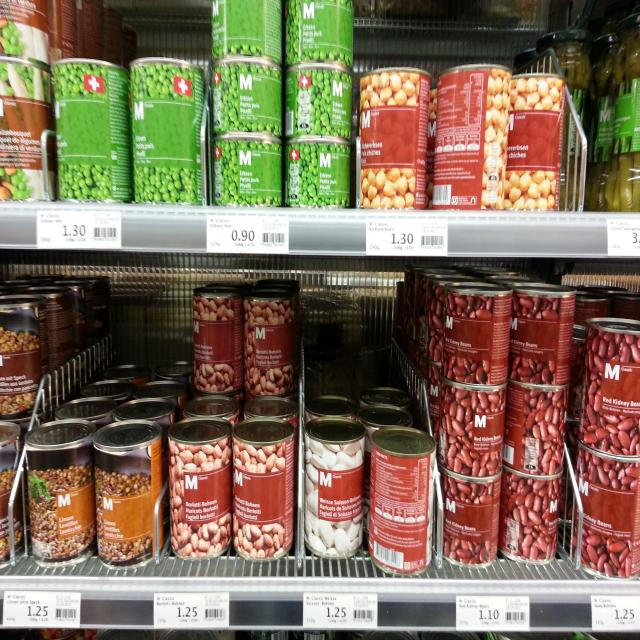Canned: (432, 64, 512, 210), (51, 59, 130, 202), (130, 57, 203, 204), (94, 420, 164, 570), (26, 419, 96, 569), (358, 68, 430, 211), (369, 426, 436, 575), (168, 414, 232, 560), (538, 28, 588, 212), (572, 443, 640, 578), (502, 72, 567, 211), (232, 418, 294, 562), (578, 317, 640, 460), (306, 414, 365, 558), (598, 12, 640, 213), (0, 57, 55, 202), (508, 279, 576, 388), (442, 282, 512, 386), (440, 378, 508, 478), (437, 463, 501, 569), (503, 381, 569, 477), (502, 466, 564, 565), (192, 285, 244, 395), (214, 58, 283, 139), (0, 292, 44, 416), (243, 288, 294, 394), (213, 135, 282, 207), (286, 65, 352, 139), (211, 0, 283, 67), (286, 0, 354, 69), (285, 138, 350, 208)
